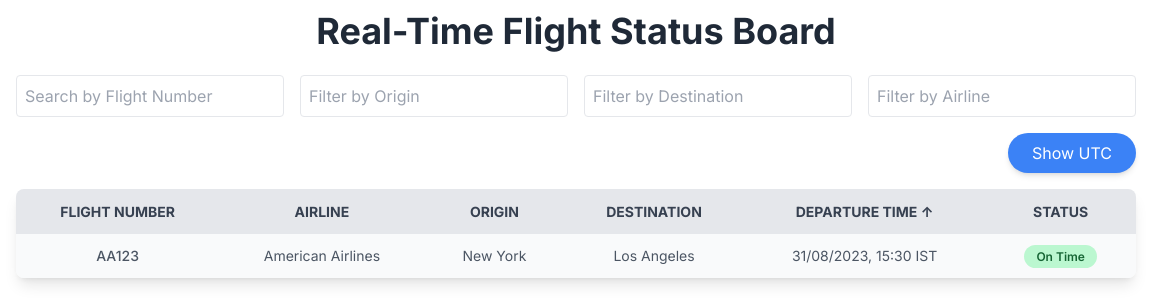
FlightTable › toggles between UTC and IST time formats
Click the button "Show UTC": (1072,153) [1008,133,1136,173]
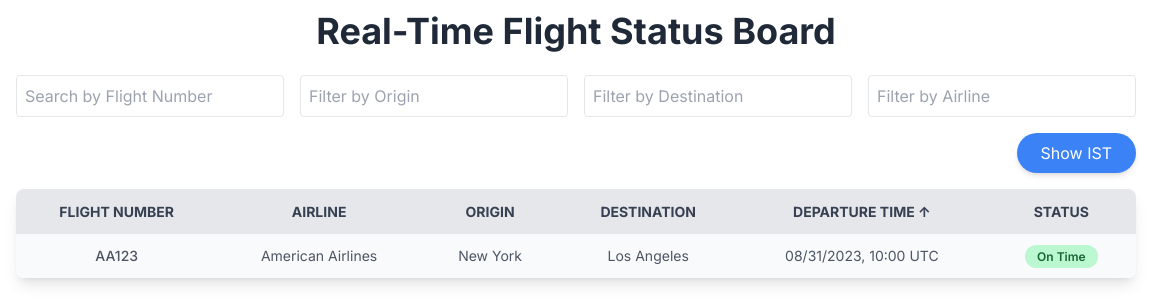
Now the button "Show IST" is shown, box [1017,133,1136,173]
